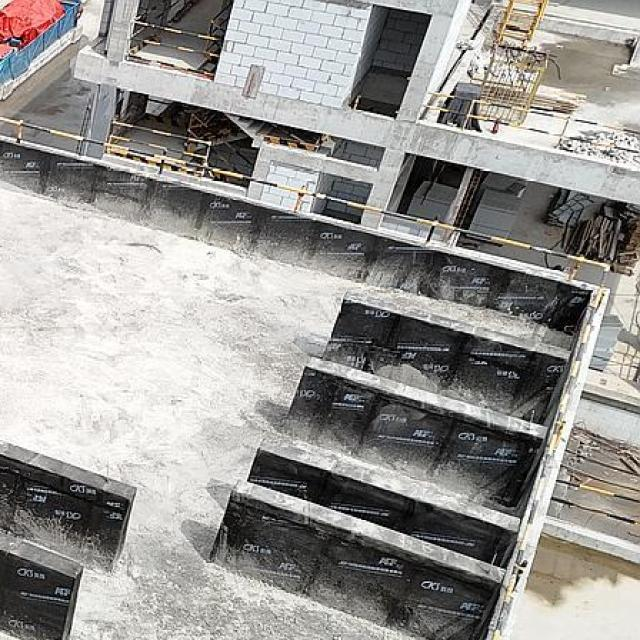edge_guardrail: (0, 110, 611, 640), (423, 90, 640, 154), (127, 20, 223, 77), (108, 120, 212, 167)
